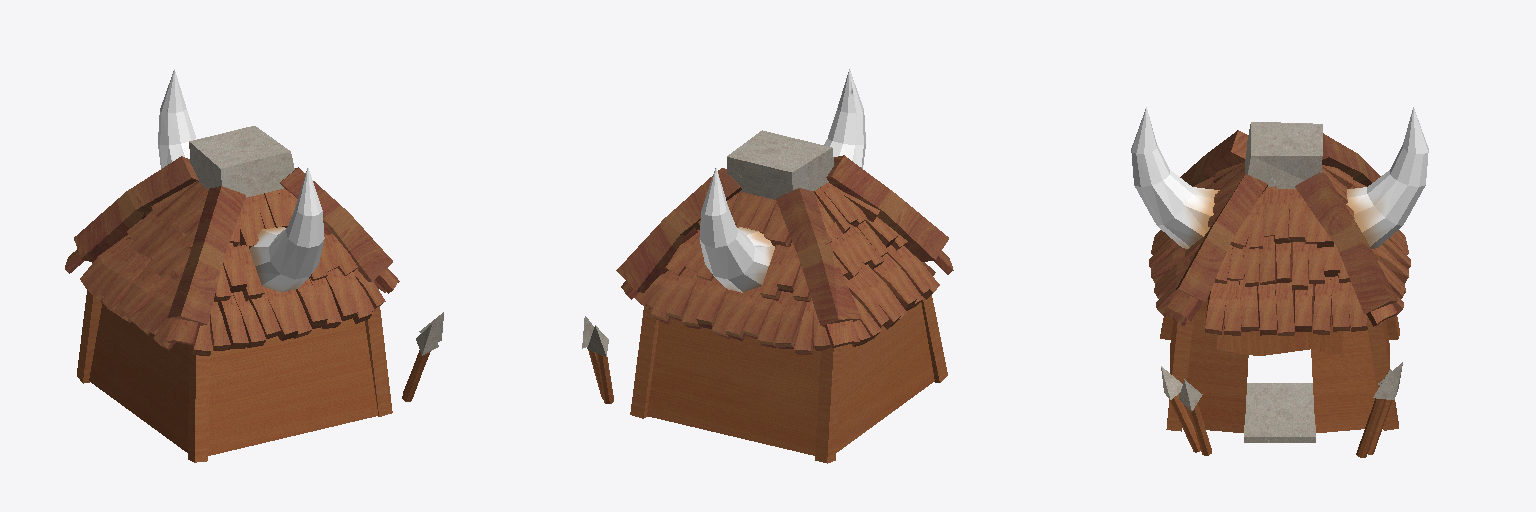
The picture shows the model from 3 angles: view 1: azimuth 30°, elevation 25°; view 2: azimuth 150°, elevation 25°; view 3: azimuth 270°, elevation 25°; orthographic projection.
Visible parts, largest first — view 1: polySurface60; view 2: polySurface60; view 3: polySurface60.
Part boxes in pixels (x1,y1,x2,y2): polySurface60: (65, 69, 443, 462); polySurface60: (582, 69, 953, 463); polySurface60: (1131, 107, 1428, 457).
Bounding box in the file's own units: 4.54 × 4.35 × 4.12.
1 materials, 1 textured.